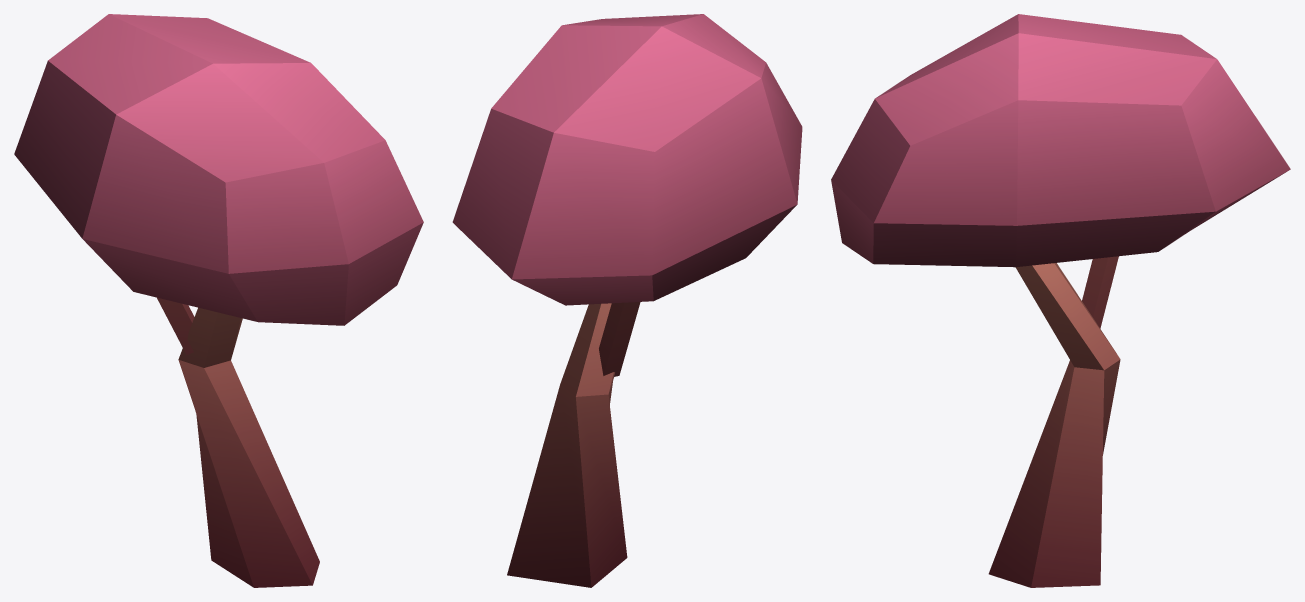
The model's file is Tree_Small.fbx.
3 views of the same model, side by side, from view 1: azimuth 30°, elevation 25°; view 2: azimuth 150°, elevation 25°; view 3: azimuth 270°, elevation 25° (orthographic). The views are drawn at different scales.
Visible parts, largest first — view 1: little head; view 2: little head; view 3: little head.
Part boxes in pixels (<box>): little head: <box>14,14,423,587</box>; little head: <box>452,14,802,587</box>; little head: <box>831,14,1290,587</box>.
Size of the model in its own units: 368 by 695 by 577.
